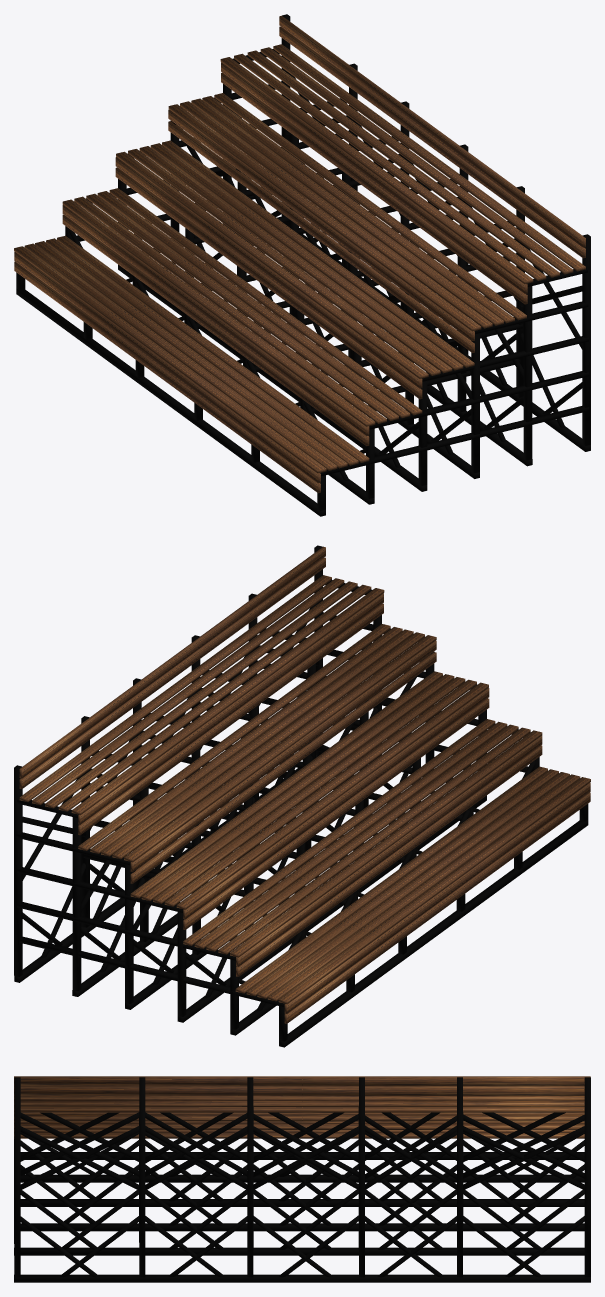
File: Tribunaaaa.fbx
The picture shows the model from 3 angles, top to bottom: view 1: azimuth 30°, elevation 25°; view 2: azimuth 150°, elevation 25°; view 3: azimuth 270°, elevation 25°; orthographic projection. The views are drawn at different scales.
Visible parts, largest first — view 1: Box120, Box112, Box110, Box117, Box089, Box096, Box101, Box103, Box095, Box113, Box115, Box092 (+37 smaller); view 2: Box120, Box112, Box117, Box115, Box089, Box103, Box109, Box094, Box095, Box096, Box110, Box116 (+37 smaller); view 3: Box120, Box121, Box018, Box017, Box113, Box016, Box106, Box015, Box099, Box114, Box014, Box092 (+82 smaller).
Boxes of the visible parts, x1,y1,x2,y2 form: Box120: (279,15,585,247); Box112: (168,121,474,352); Box110: (168,104,481,331); Box117: (220,57,533,283); Box089: (14,246,326,473); Box096: (62,199,375,426); Box101: (139,146,452,373); Box103: (116,151,428,378); Box095: (74,196,386,423); Box113: (273,44,585,271); Box115: (247,50,559,277); Box092: (109,188,422,415); Box120: (19,546,325,778); Box112: (130,652,436,883); Box117: (71,588,384,814); Box115: (45,581,357,808); Box089: (278,777,590,1003); Box103: (176,682,488,909); Box109: (112,632,424,859); Box094: (206,724,518,951); Box095: (218,727,530,954); Box096: (230,730,542,957); Box110: (124,635,436,862); Box116: (58,584,371,811); Box120: (14,1076,590,1085); Box121: (14,1086,584,1095); Box018: (14,1274,590,1282); Box017: (14,1247,584,1255); Box113: (14,1100,584,1106); Box016: (20,1223,584,1231); Box106: (14,1107,584,1112); Box015: (20,1199,584,1206); Box099: (14,1114,584,1121); Box114: (14,1096,584,1100); Box014: (20,1174,584,1182); Box092: (14,1123,584,1129).
Size of the model in its own units: 2472 by 1850 by 4765.
2 materials, 1 textured.
